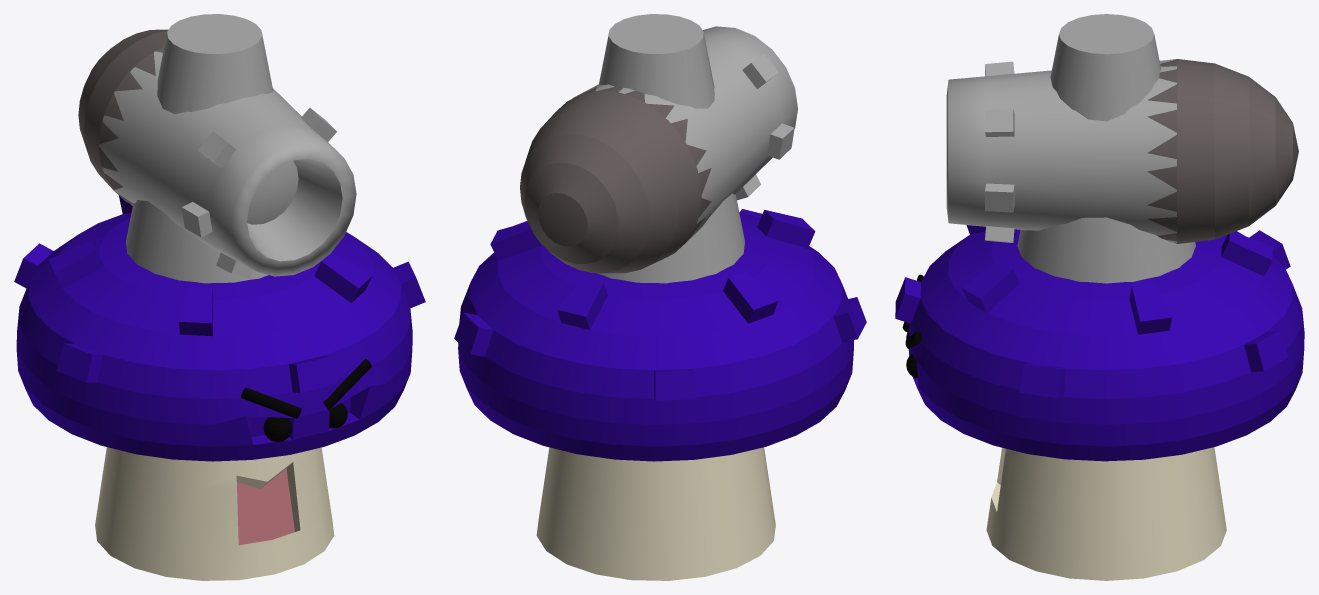
File: Mob02.fbx
The picture shows the model from 3 angles, left to right: view 1: azimuth 30°, elevation 25°; view 2: azimuth 150°, elevation 25°; view 3: azimuth 270°, elevation 25°; orthographic projection.
Parts seen in each view (by area): view 1: Head, pCylinder1, Body, Tower, pSphere1, MouthInside, leftBrow, rightBrow, leftEye; view 2: Head, pSphere1, Body, pCylinder1, Tower; view 3: Head, pCylinder1, Body, pSphere1, Tower.
Part boxes in pixels (x1=…): Head: x1=14, y1=196, x2=425, y2=461; pCylinder1: x1=99, y1=51, x2=356, y2=278; Body: x1=95, y1=447, x2=334, y2=580; Tower: x1=126, y1=14, x2=272, y2=283; pSphere1: x1=78, y1=29, x2=168, y2=204; MouthInside: x1=237, y1=468, x2=294, y2=545; leftBrow: x1=241, y1=387, x2=301, y2=418; rightBrow: x1=323, y1=358, x2=371, y2=410; leftEye: x1=263, y1=417, x2=291, y2=441; Head: x1=454, y1=209, x2=866, y2=461; pSphere1: x1=520, y1=86, x2=711, y2=273; Body: x1=536, y1=447, x2=775, y2=580; pCylinder1: x1=572, y1=26, x2=797, y2=257; Tower: x1=596, y1=14, x2=744, y2=283; Head: x1=895, y1=225, x2=1304, y2=461; pCylinder1: x1=946, y1=59, x2=1176, y2=242; Body: x1=986, y1=447, x2=1226, y2=580; pSphere1: x1=1147, y1=59, x2=1298, y2=243; Tower: x1=1017, y1=14, x2=1195, y2=283.
Size of the model in its own units: 12.26 by 16.21 by 12.12.
